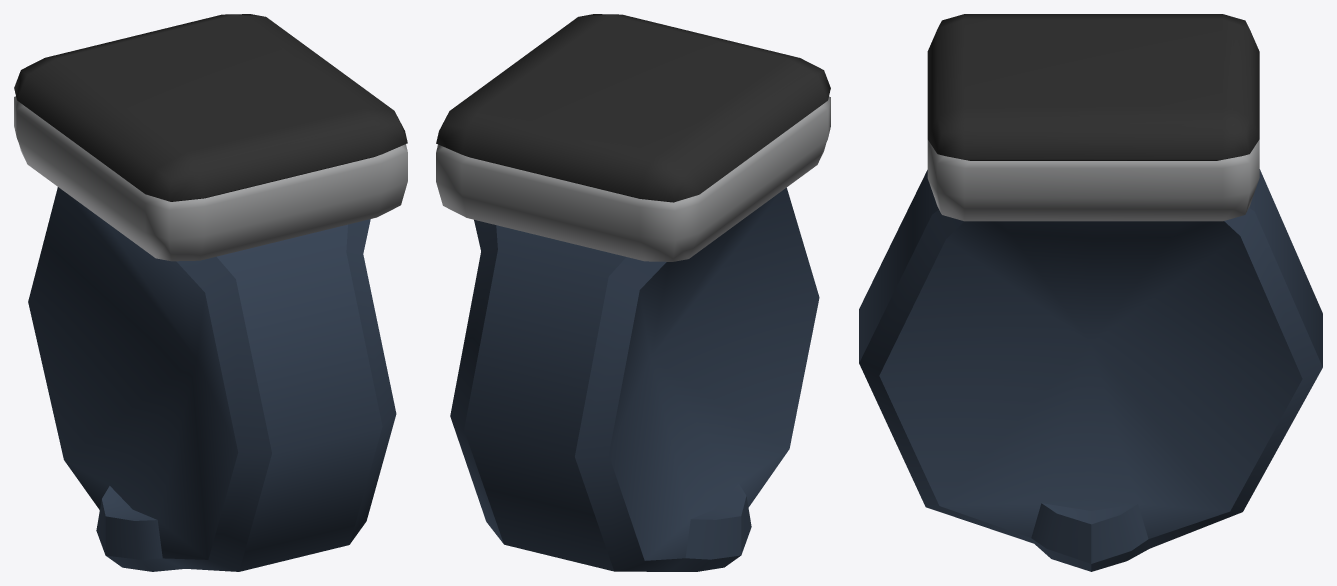
Rendered from Watch_1.fbx.
The picture shows the model from 3 angles, left to right: view 1: azimuth 30°, elevation 25°; view 2: azimuth 150°, elevation 25°; view 3: azimuth 270°, elevation 25°; orthographic projection.
Parts seen in each view (by area): view 1: Watch_1; view 2: Watch_1; view 3: Watch_1.
Part boxes in pixels (box(x1,y1,x2,y2)): Watch_1: box(14, 14, 407, 571); Watch_1: box(436, 14, 830, 571); Watch_1: box(859, 14, 1322, 571).
Size of the model in its own units: 7.61 by 12.92 by 11.68.
